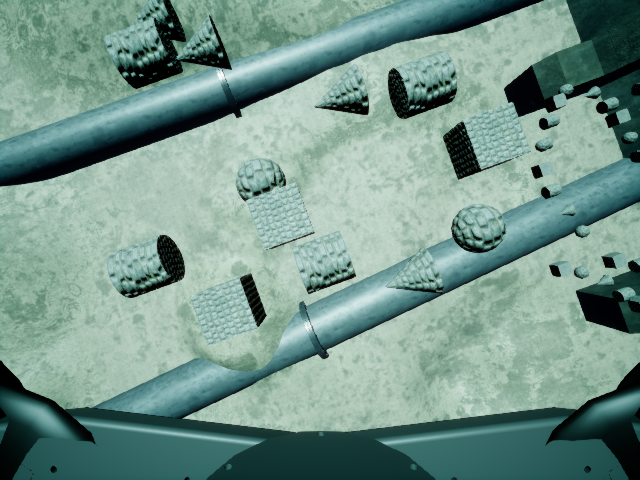box: (440, 102, 532, 179), (190, 269, 271, 355), (233, 188, 331, 255)
cone: (170, 7, 235, 90), (297, 65, 374, 124), (378, 247, 453, 301)
cylinder: (378, 35, 464, 122), (96, 226, 195, 297)
sphere: (451, 204, 523, 259)
